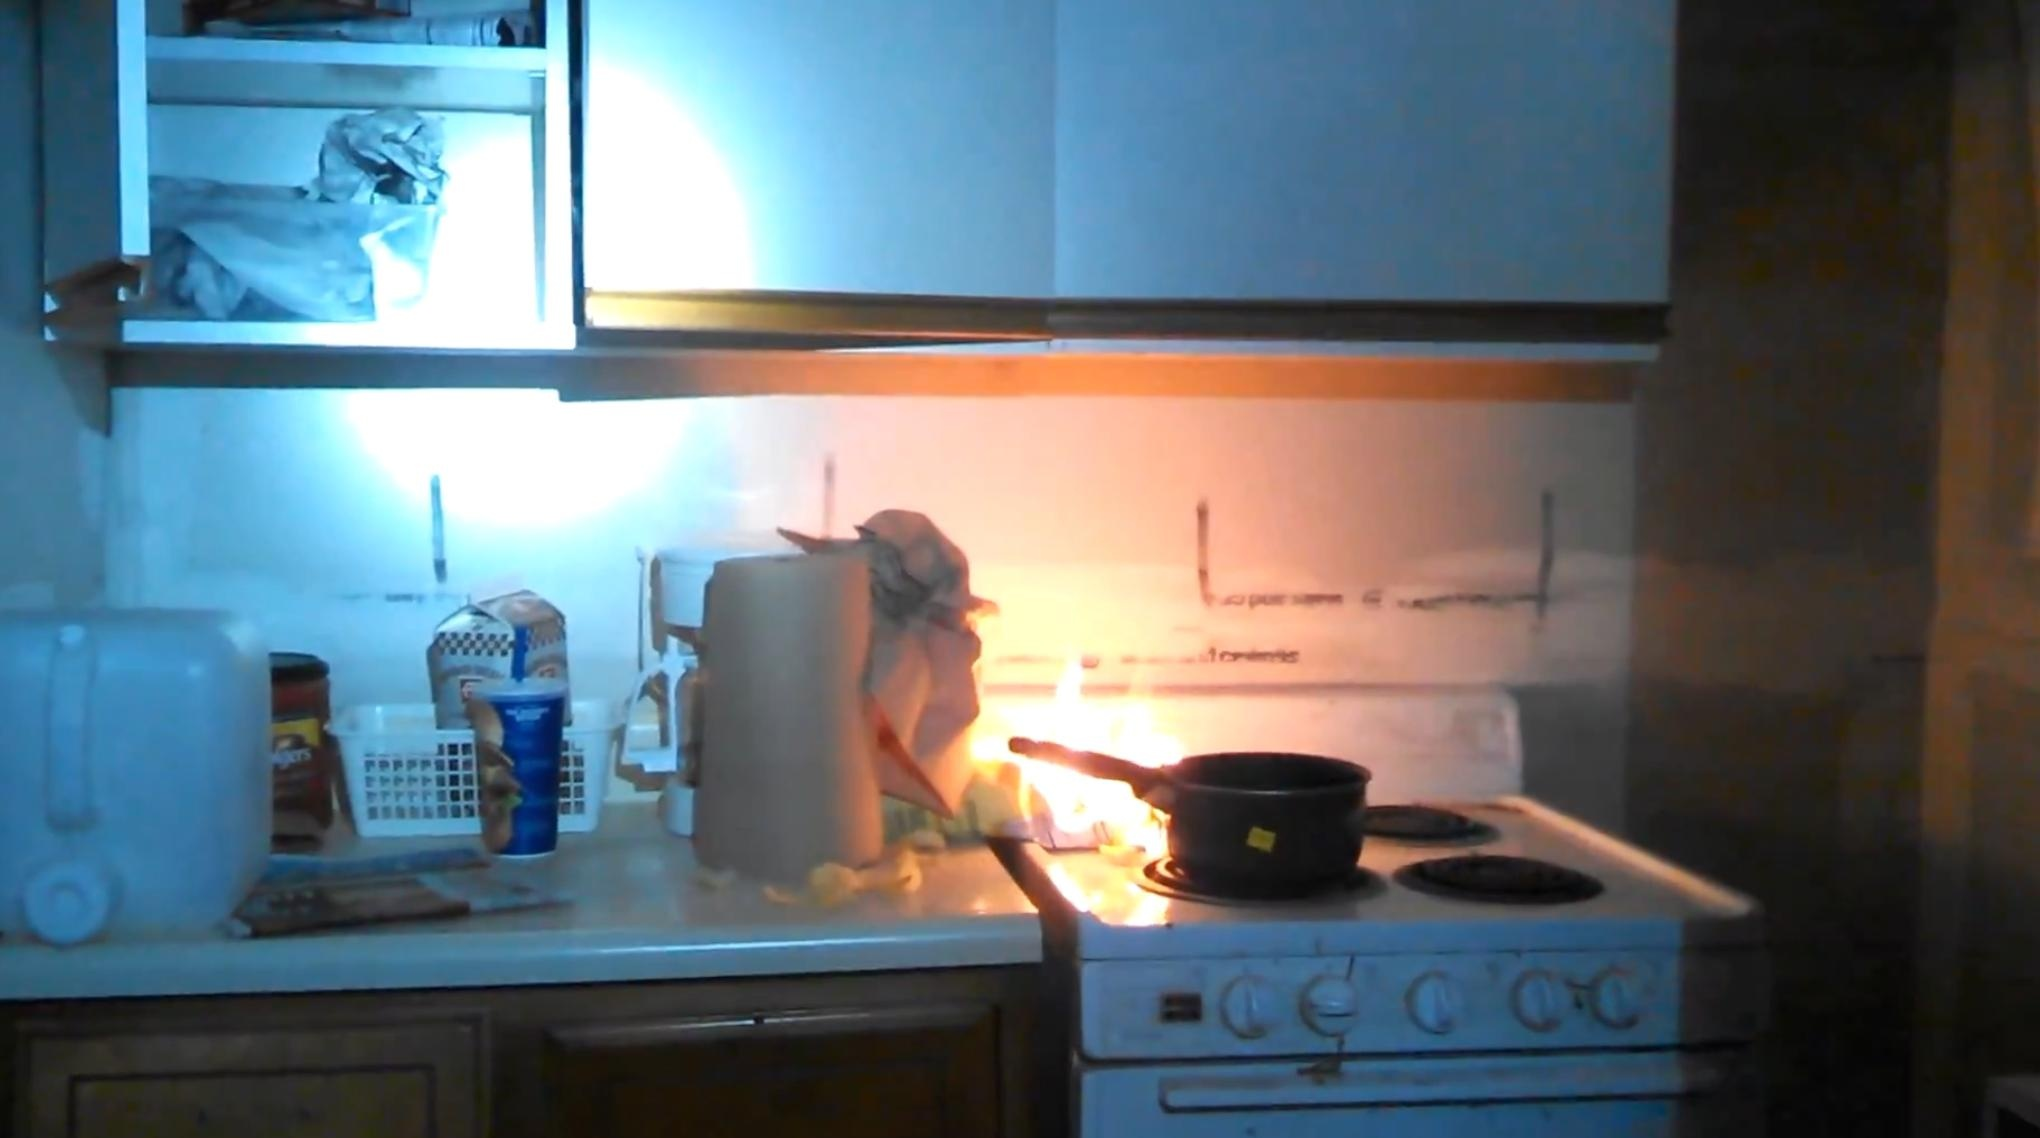fire: (943, 626, 1187, 912)
